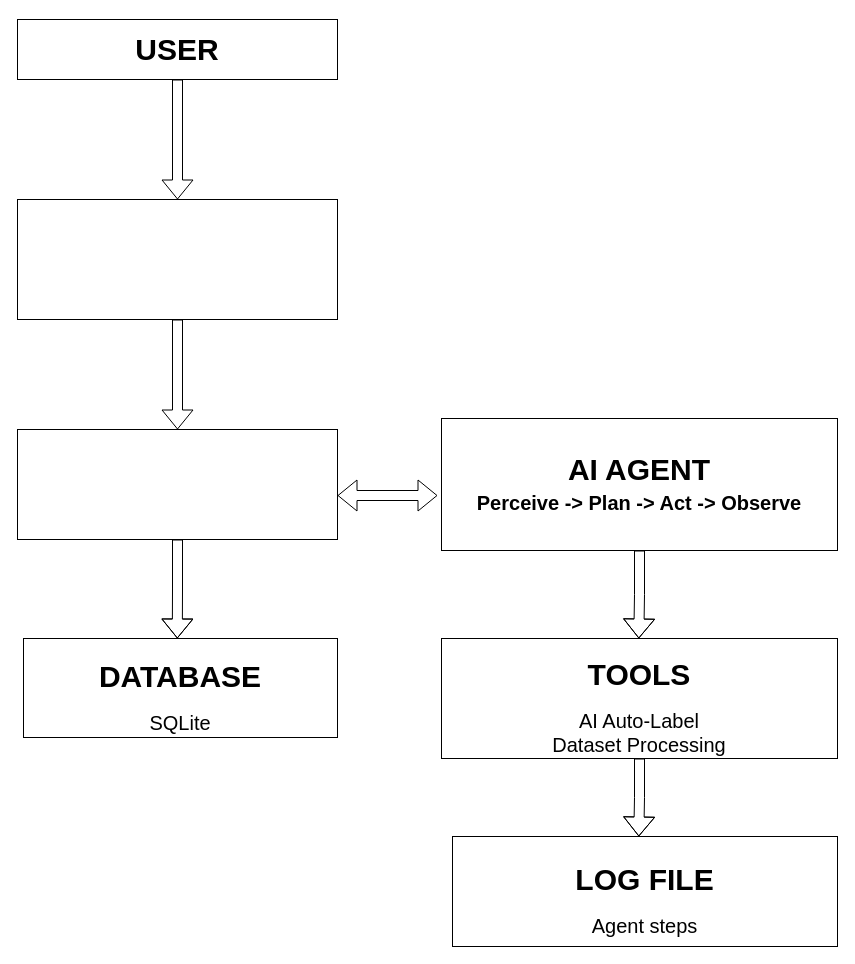
Image size: 855x964. Some labels were removed from this diagram. The shapes that lost their labels are listed below. From the top down, each one's centre as x and y in pixels, then its label:
At [177,259]: "FRONTEND HTML /CSS/Javascript".
At [177,484]: "BACKEND Python + FastAPI".
